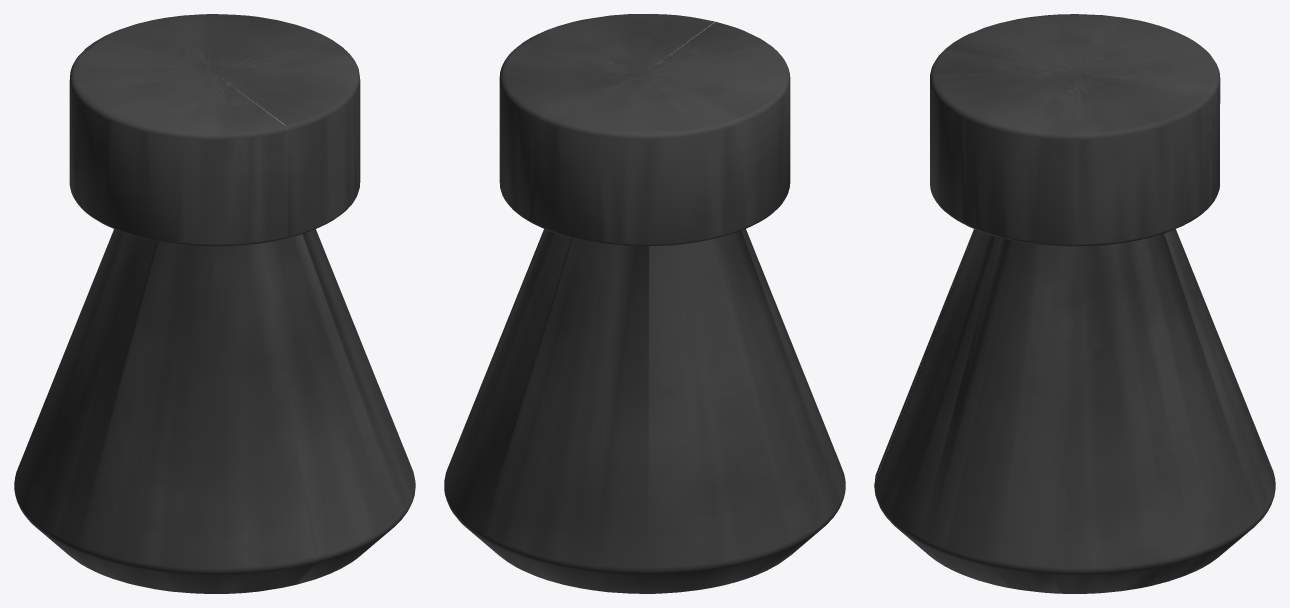
The model's file is 03_vez_cerna.glb.
The picture shows the model from 3 angles, left to right: view 1: azimuth 30°, elevation 25°; view 2: azimuth 150°, elevation 25°; view 3: azimuth 270°, elevation 25°; orthographic projection.
Visible parts, largest first — view 1: 03_vez_cerna; view 2: 03_vez_cerna; view 3: 03_vez_cerna.
Boxes of the visible parts, left/top/right/bottom form: 03_vez_cerna: left=14, top=14, right=415, bottom=593; 03_vez_cerna: left=444, top=14, right=845, bottom=593; 03_vez_cerna: left=874, top=14, right=1275, bottom=593.
Bounding box in the file's own units: 0.0427 × 0.0531 × 0.0427.
Materials: 1 (1 with a texture image).
